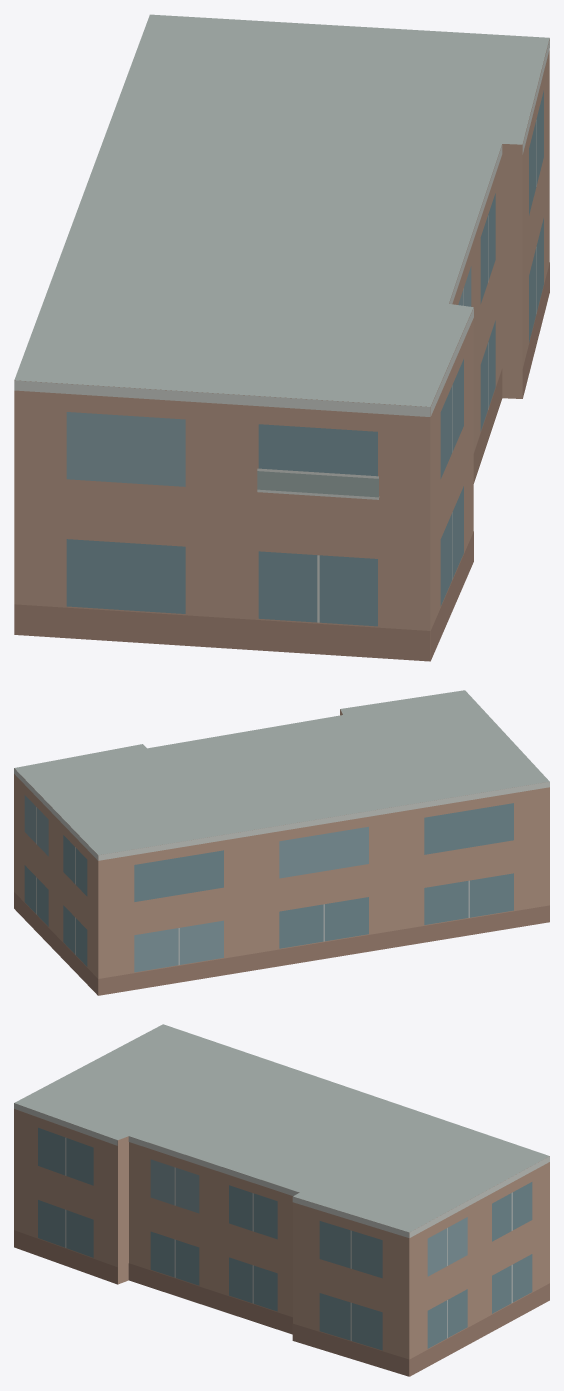
File: survey-upis-32765349.glb
3 views of the same model, one above another, from view 1: azimuth 30°, elevation 25°; view 2: azimuth 150°, elevation 25°; view 3: azimuth 270°, elevation 25° (orthographic). The views are drawn at different scales.
Parts seen in each view (by area): view 1: survey-upis-32765349.tmp; view 2: survey-upis-32765349.tmp; view 3: survey-upis-32765349.tmp.
Boxes of the visible parts, x1,y1,x2,y2 form: survey-upis-32765349.tmp: (14,14,549,661); survey-upis-32765349.tmp: (14,690,549,995); survey-upis-32765349.tmp: (14,1024,549,1376).
Size of the model in its own units: 18.9 by 6.1 by 20.54.
